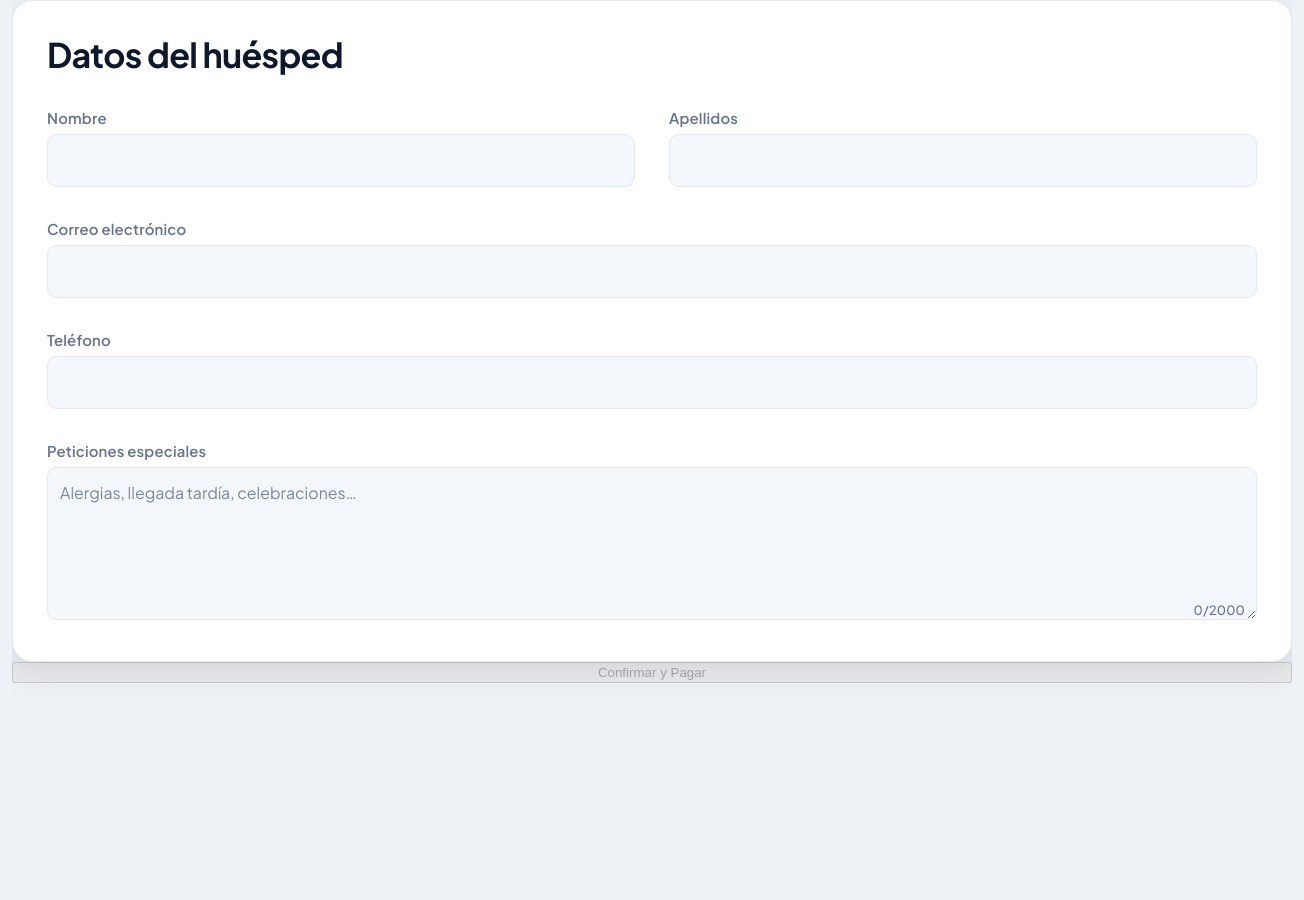
Test case: GuestForm (integración con botón de pago) › mantiene el botón habilitado si Peticiones especiales está vacío
Type "Luis" into the field labelled "Nombre" at (341, 161), box [47,134,635,187]
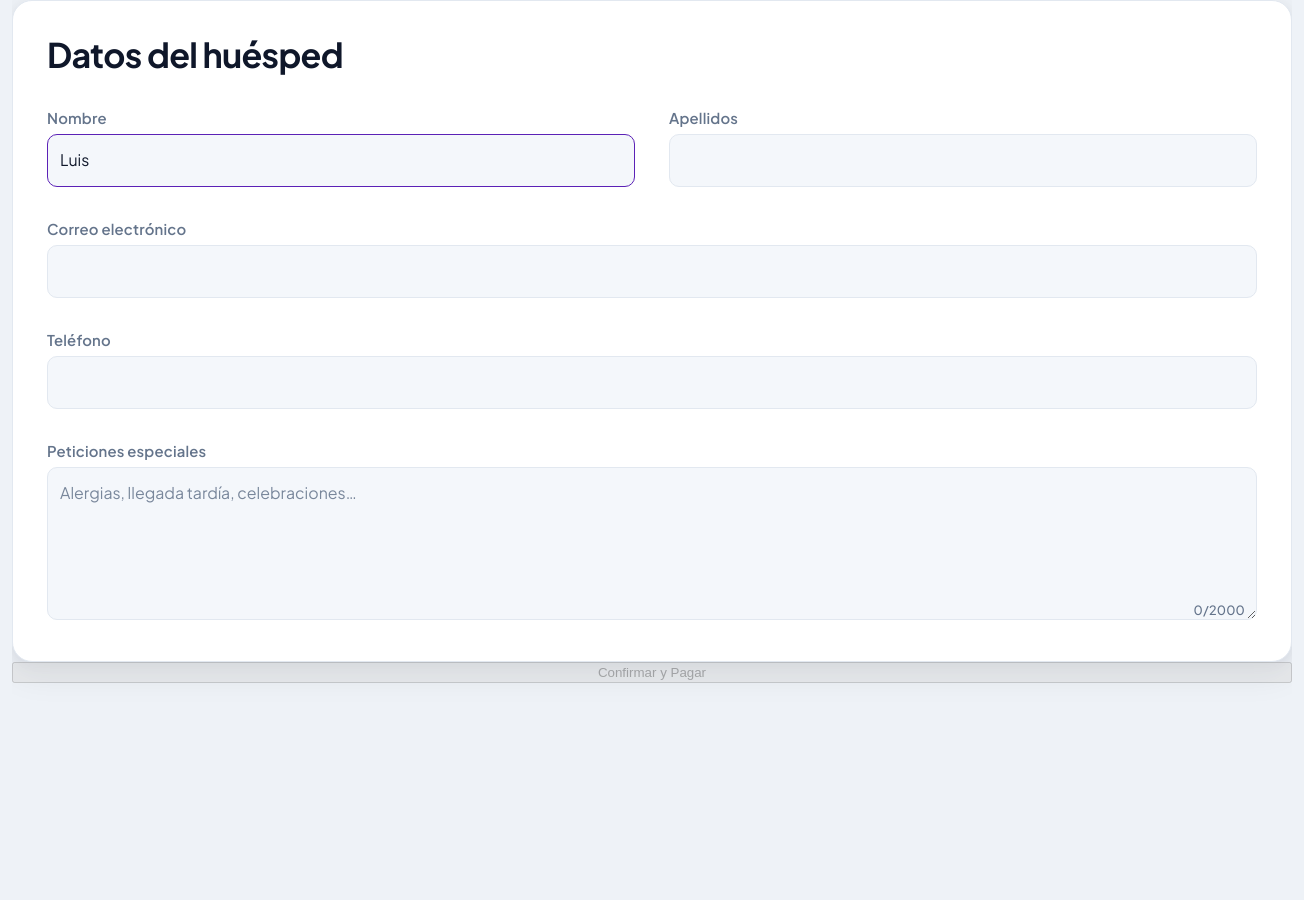
Type "Pérez" into the field labelled "Apellidos" at (963, 161), box [669,134,1257,187]
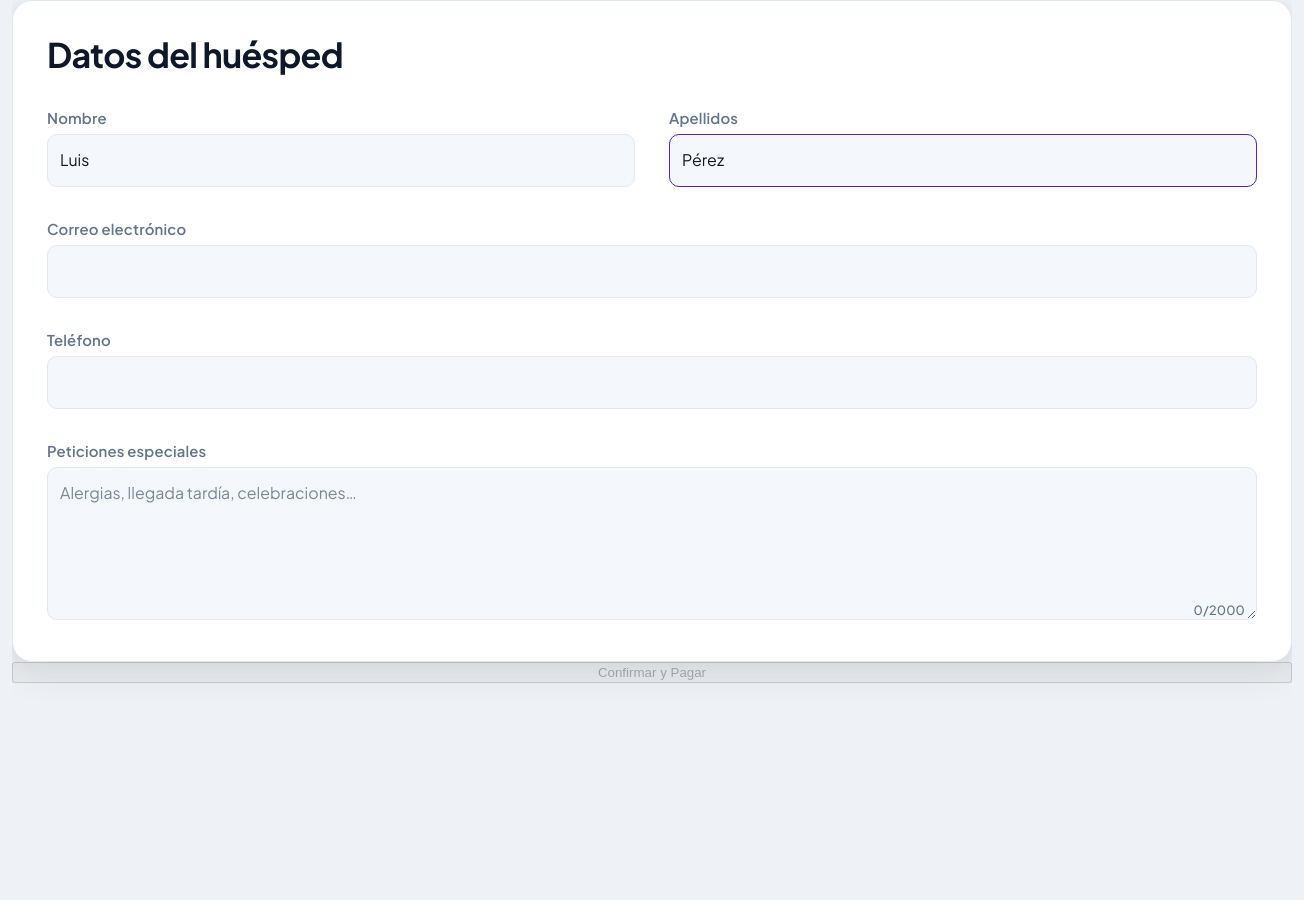
Type "luis@example.com" into the field labelled "Correo electrónico" at (652, 272), box [47,245,1257,298]
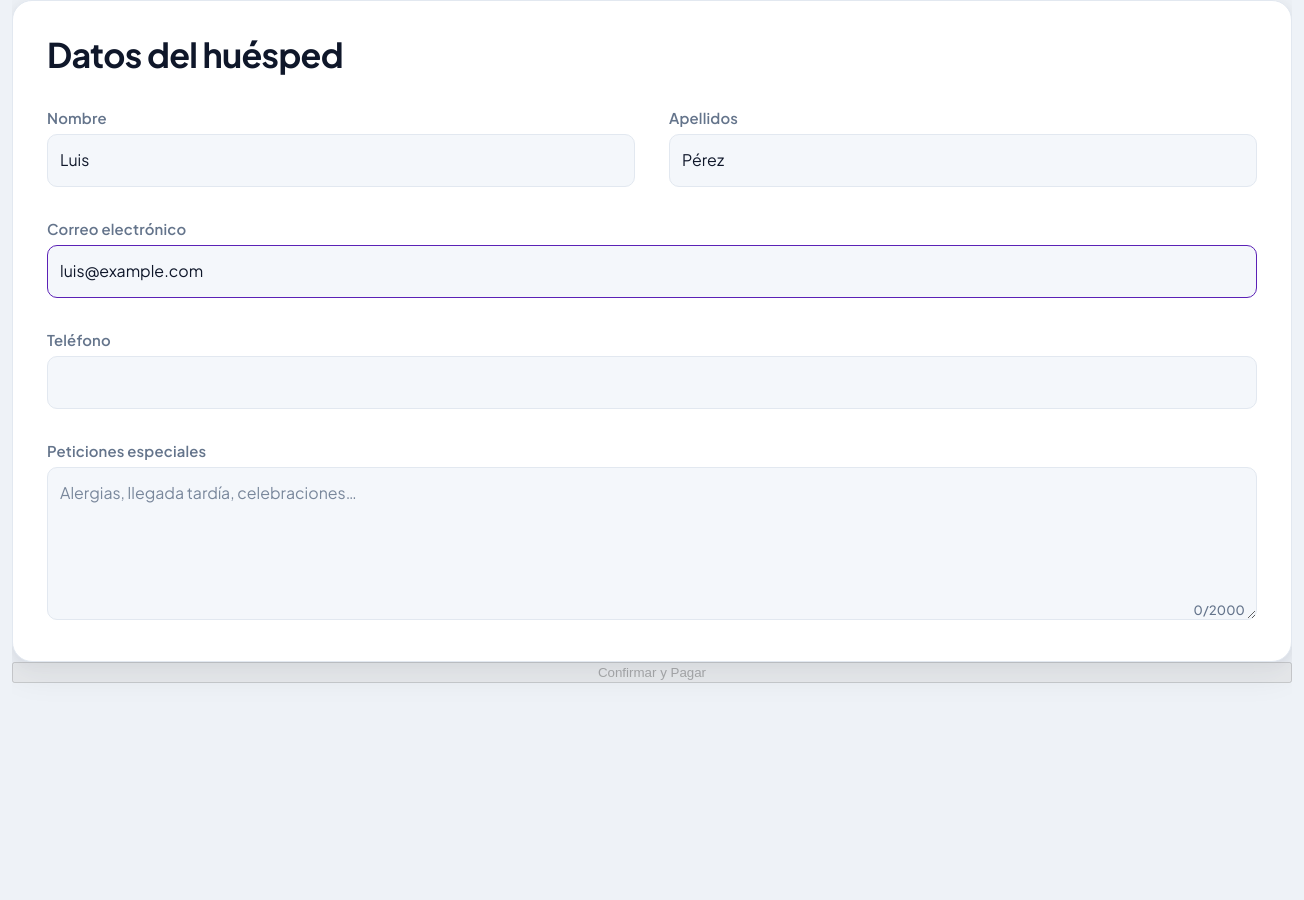
Type "611000000" into the field labelled "Teléfono" at (652, 382), box [47,356,1257,409]
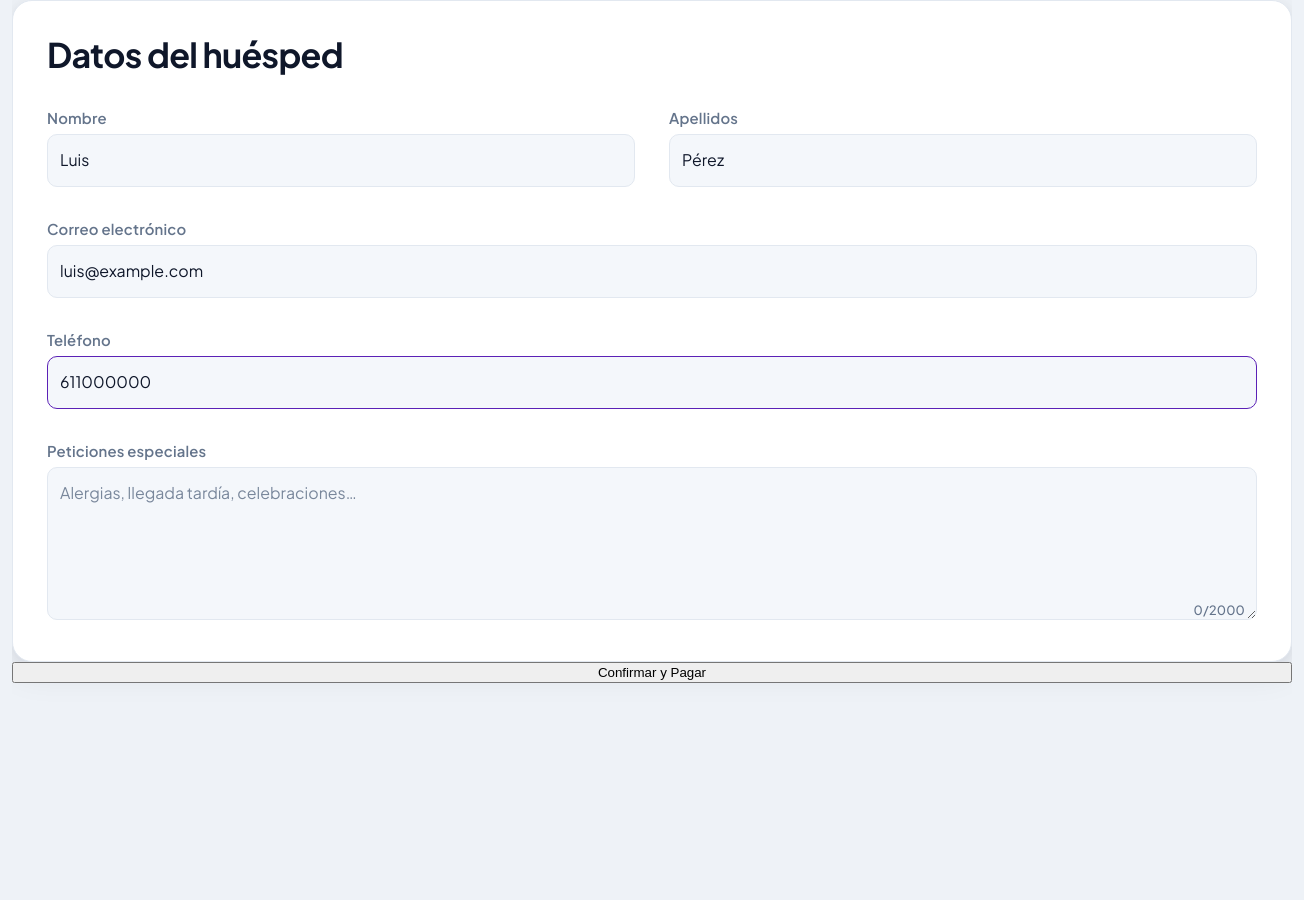
Expected: the text box labelled "Peticiones especiales" is empty, [47,467,1257,620]
Now the button with test id "checkout-confirm-pay" is enabled, box [12,662,1292,683]
